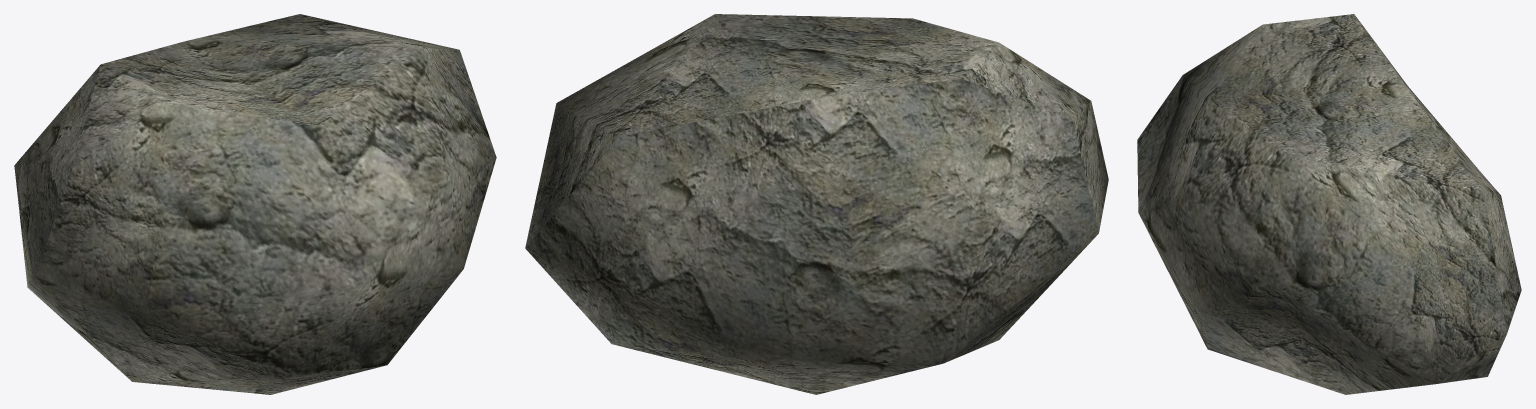
File: MIN_LOB_STONE_V3_40.glb
The picture shows the model from 3 angles, left to right: view 1: azimuth 30°, elevation 25°; view 2: azimuth 150°, elevation 25°; view 3: azimuth 270°, elevation 25°; orthographic projection. The views are drawn at different scales.
Visible parts, largest first — view 1: Mesh; view 2: Mesh; view 3: Mesh.
Boxes of the visible parts, x1,y1,x2,y2 form: Mesh: (14, 14, 496, 394); Mesh: (525, 14, 1108, 394); Mesh: (1137, 14, 1521, 394).
Size of the model in its own units: 10.57 by 6.82 by 8.31.
Materials: 1 (1 with a texture image).
